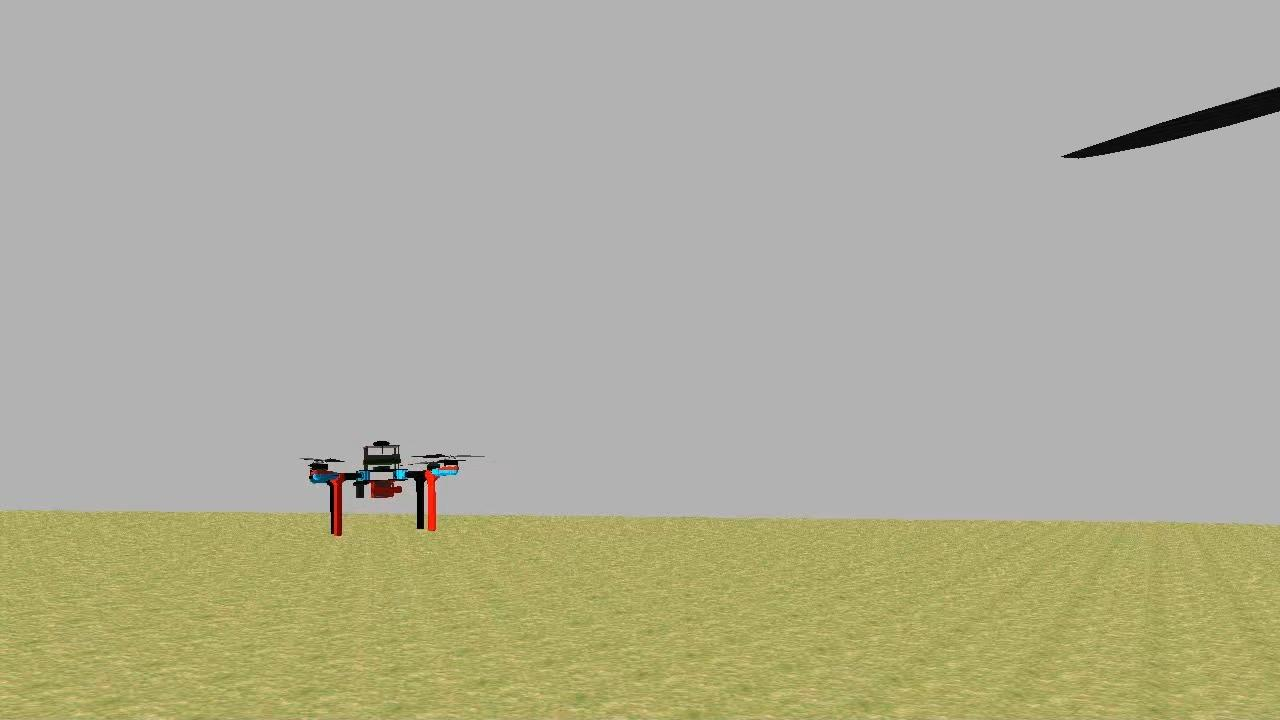UAV: (298, 440, 468, 538)
